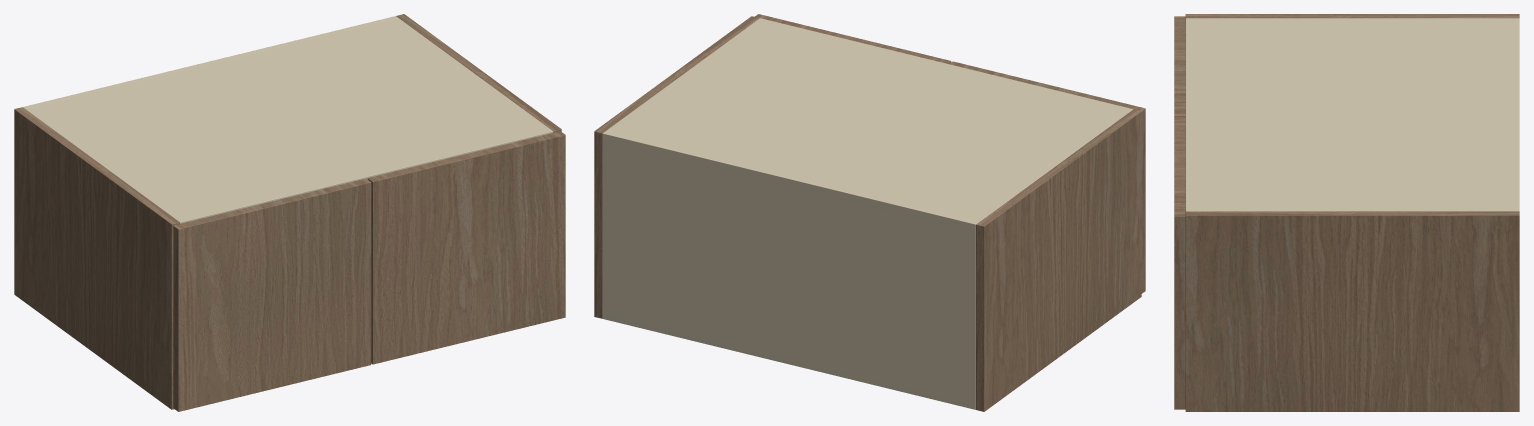
Rendered from oppein-ply-mnw-w331524.glb.
The picture shows the model from 3 angles, left to right: view 1: azimuth 30°, elevation 25°; view 2: azimuth 150°, elevation 25°; view 3: azimuth 270°, elevation 25°; orthographic projection. The views are drawn at different scales.
Visible parts, largest first — view 1: Cabinet top, Door, Door.001, Cabinet side, Cabinet side.001, Cabinet back; view 2: Cabinet back, Cabinet top, Cabinet side, Cabinet side.001, Cabinet bottom, Door, Door.001; view 3: Cabinet side.001, Cabinet top, Door.001, Cabinet side, Cabinet back, Door.
Part boxes in pixels (left/top/right/bottom): Cabinet top: left=23, top=16, right=553, bottom=223; Door: left=173, top=178, right=371, bottom=411; Door.001: left=367, top=131, right=565, bottom=364; Cabinet side: left=14, top=107, right=179, bottom=409; Cabinet side.001: left=396, top=14, right=561, bottom=132; Cabinet back: left=23, top=16, right=398, bottom=108; Cabinet back: left=602, top=131, right=978, bottom=409; Cabinet top: left=603, top=18, right=1133, bottom=232; Cabinet side: left=976, top=109, right=1141, bottom=411; Cabinet side.001: left=594, top=16, right=759, bottom=318; Cabinet bottom: left=602, top=311, right=975, bottom=409; Door: left=949, top=61, right=1145, bottom=293; Door.001: left=755, top=14, right=951, bottom=63; Cabinet side.001: left=1185, top=211, right=1519, bottom=411; Cabinet top: left=1185, top=18, right=1519, bottom=211; Door.001: left=1174, top=116, right=1185, bottom=409; Cabinet side: left=1185, top=14, right=1519, bottom=18; Cabinet back: left=1513, top=18, right=1519, bottom=211; Door: left=1174, top=16, right=1185, bottom=116.
Size of the model in its own units: 0.8382 by 0.381 by 0.6064.
Materials: 2 (1 with a texture image).
